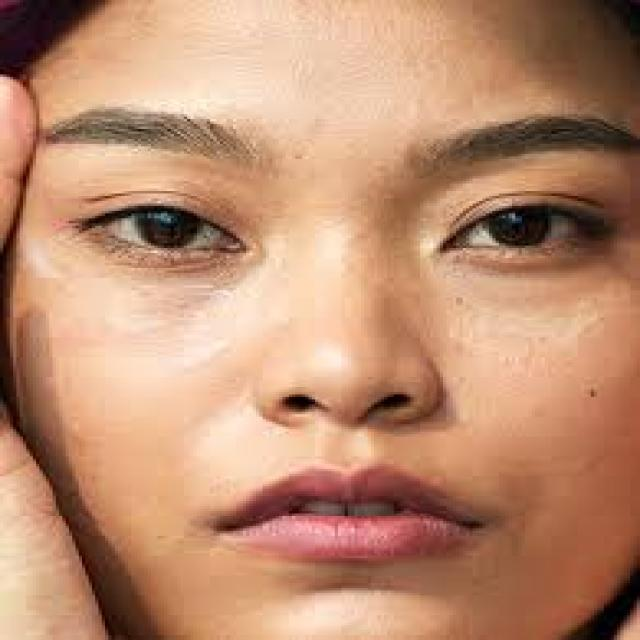Puffy Eyes - v3 Dark Circle: (440, 254, 620, 312), (110, 253, 264, 301)
